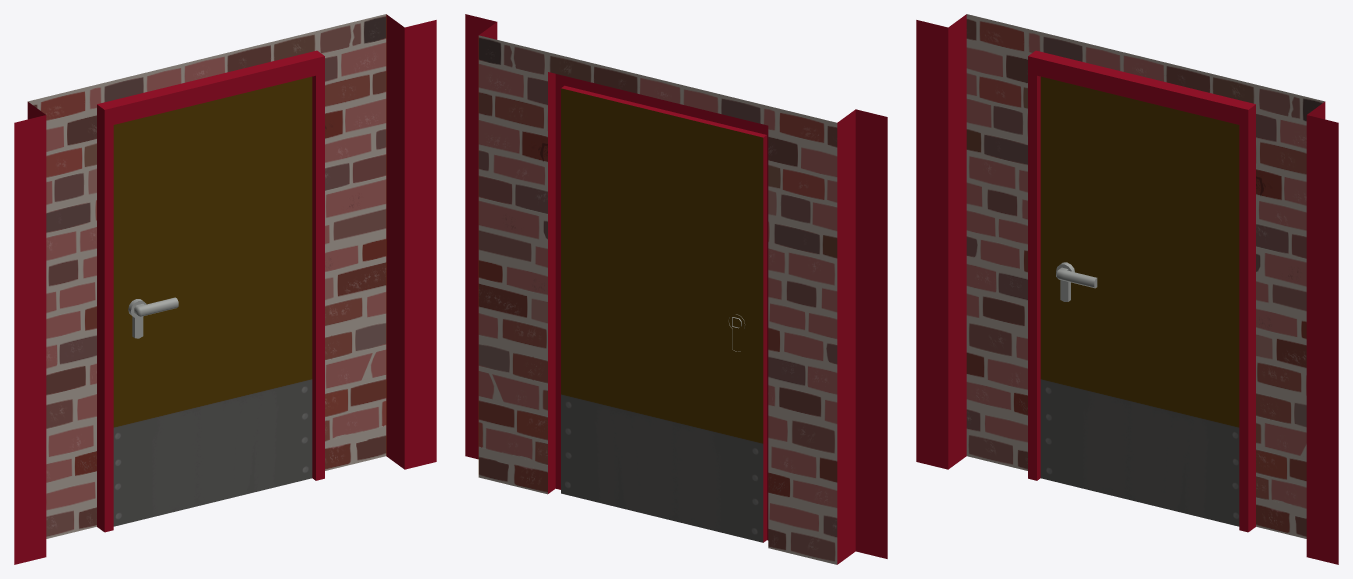
Rendered from door0.1.fbx.
3 views of the same model, side by side, from view 1: azimuth 30°, elevation 25°; view 2: azimuth 150°, elevation 25°; view 3: azimuth 330°, elevation 25° (orthographic).
Visible parts, largest first — view 1: door; view 2: door; view 3: door.
Boxes of the visible parts, <box> form: door: <box>14,14,436,564</box>; door: <box>465,14,887,564</box>; door: <box>916,14,1338,564</box>.
Bounding box in the file's own units: 52.96 × 52.96 × 4.01.
